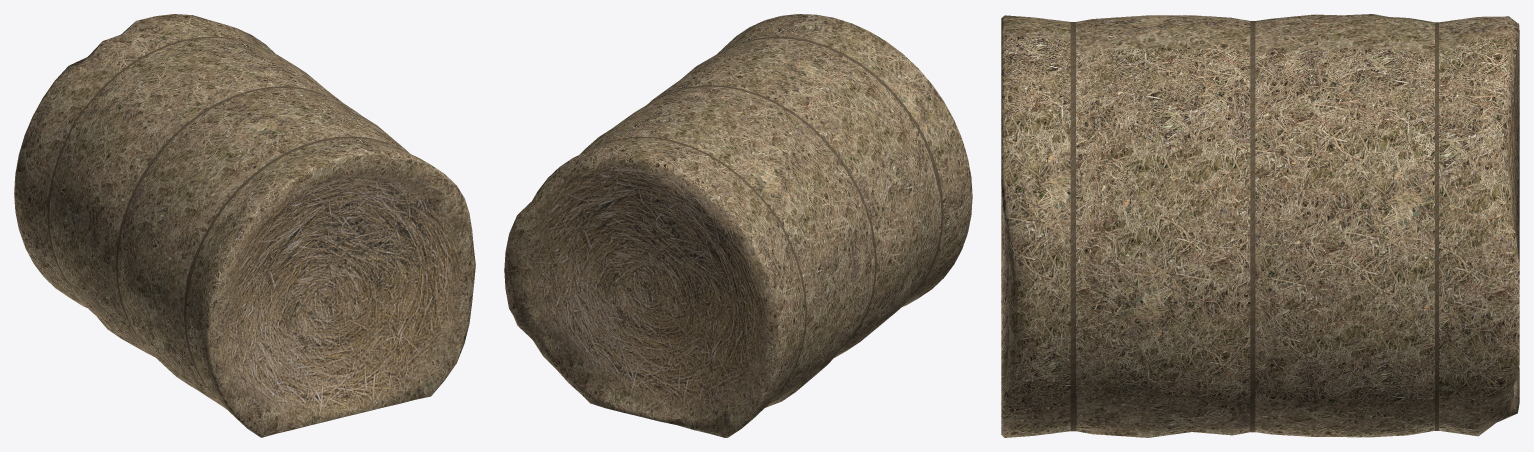
The model's file is HAYBALE.fbx.
3 renders of one model, left to right at view 1: azimuth 30°, elevation 25°; view 2: azimuth 150°, elevation 25°; view 3: azimuth 270°, elevation 25°, orthographic. The views are drawn at different scales.
Visible parts, largest first — view 1: Cylinder_0; view 2: Cylinder_0; view 3: Cylinder_0.
Boxes of the visible parts, x1,y1,x2,y2 form: Cylinder_0: (14, 14, 475, 437); Cylinder_0: (504, 14, 972, 437); Cylinder_0: (1001, 14, 1519, 437).
Bounding box in the file's own units: 0.9843 × 0.8656 × 1.16.
1 material, 1 textured.
